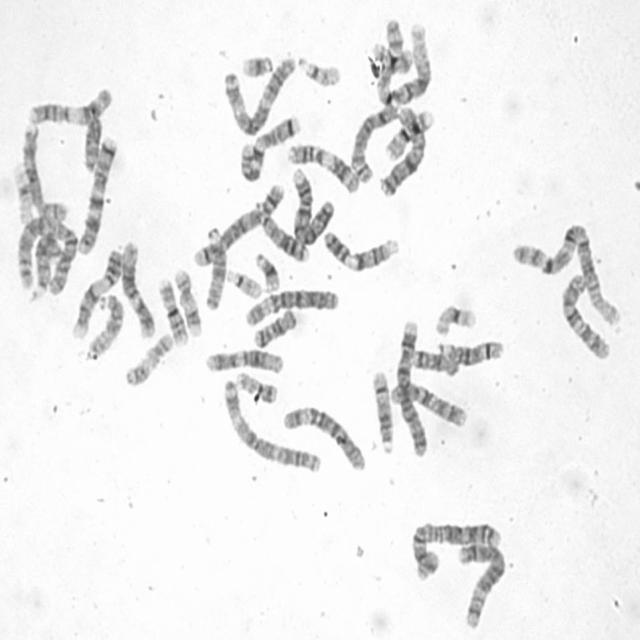A1: (508, 218, 624, 327), (372, 19, 433, 108)
A2: (407, 516, 505, 583), (13, 210, 79, 299)
A3: (221, 374, 324, 474), (220, 51, 297, 138)
B4: (394, 316, 429, 458), (290, 165, 337, 247)
B5: (192, 180, 287, 270), (454, 538, 508, 630)
C10: (558, 268, 612, 362), (388, 378, 468, 429)
C11: (284, 139, 362, 195), (25, 85, 114, 127)
C12: (118, 237, 156, 338), (202, 346, 285, 376)
C6: (279, 401, 367, 474), (242, 284, 341, 328)
C7: (74, 133, 119, 256), (236, 112, 302, 182)
C8: (19, 121, 68, 223), (349, 101, 399, 182)
C9: (69, 246, 125, 341), (322, 230, 401, 274)
D13: (253, 200, 311, 265), (27, 236, 63, 304)
D14: (369, 366, 396, 456), (434, 336, 505, 367)
D15: (85, 289, 126, 358), (202, 224, 227, 313)
E16: (383, 106, 436, 162), (155, 274, 190, 348)
E17: (122, 330, 174, 388), (172, 264, 204, 340)
E18: (250, 305, 299, 349), (409, 346, 458, 376)
F19: (430, 301, 480, 338), (12, 161, 34, 225)
F20: (234, 367, 279, 405), (369, 40, 414, 76)
G21: (253, 249, 282, 293), (240, 51, 274, 79)
G22: (296, 52, 343, 88), (224, 266, 264, 301)
X: (378, 106, 427, 199)
Y: (82, 116, 103, 174)
